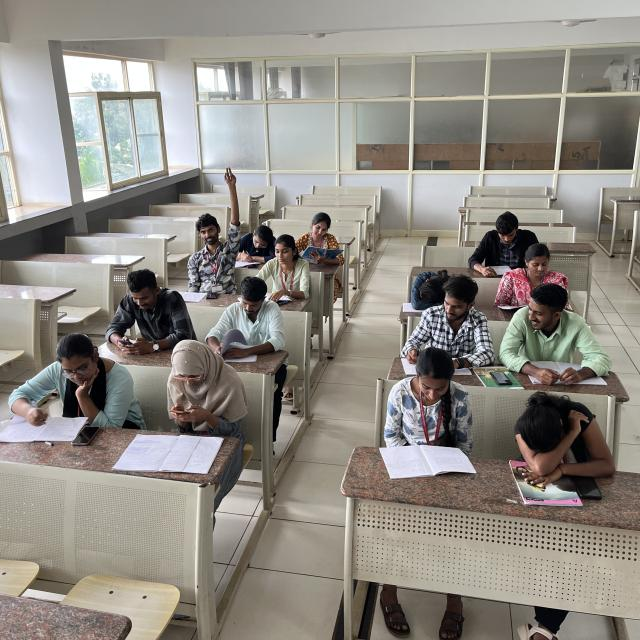Hand Rising: (181, 166, 244, 290)
Reading: (378, 345, 472, 470), (206, 279, 284, 361), (494, 241, 576, 315), (464, 206, 536, 277), (264, 237, 309, 307), (300, 212, 350, 271)
Sleeping: (507, 392, 613, 483), (400, 261, 454, 312)
Using Phone: (157, 334, 247, 434), (103, 263, 196, 357)
Writing: (9, 326, 127, 425), (234, 223, 279, 269)
